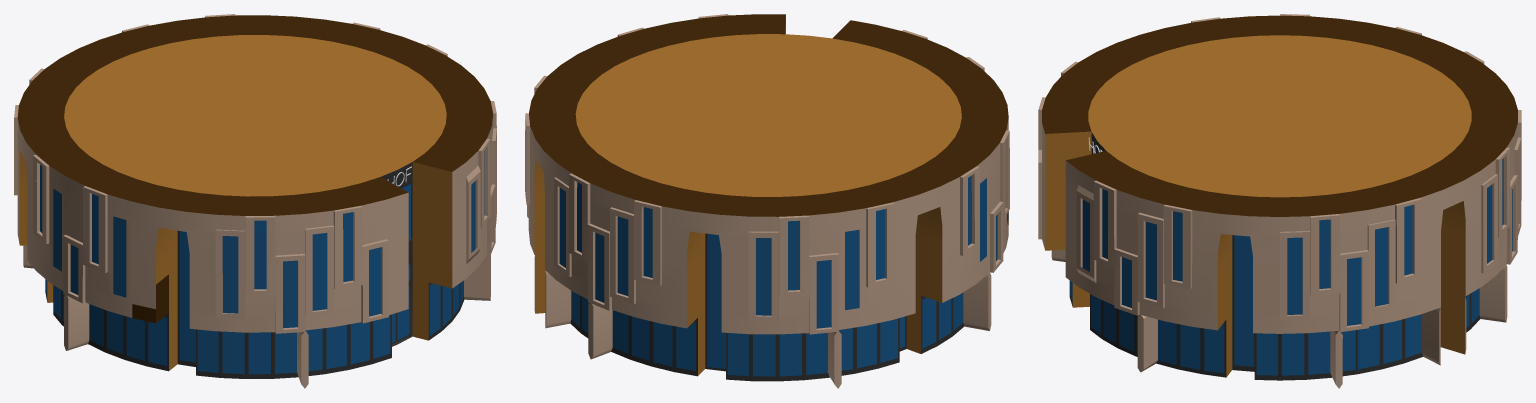
File: HOF.fbx
3 renders of one model, left to right at view 1: azimuth 30°, elevation 25°; view 2: azimuth 150°, elevation 25°; view 3: azimuth 270°, elevation 25°, orthographic.
Parts seen in each view (by area): view 1: pCylinder3; view 2: pCylinder3; view 3: pCylinder3.
Part boxes in pixels (x1=…): pCylinder3: x1=14, y1=14, x2=496, y2=388; pCylinder3: x1=525, y1=14, x2=1009, y2=388; pCylinder3: x1=1038, y1=14, x2=1521, y2=388.
Size of the model in its own units: 7.83 by 3.19 by 7.84.
